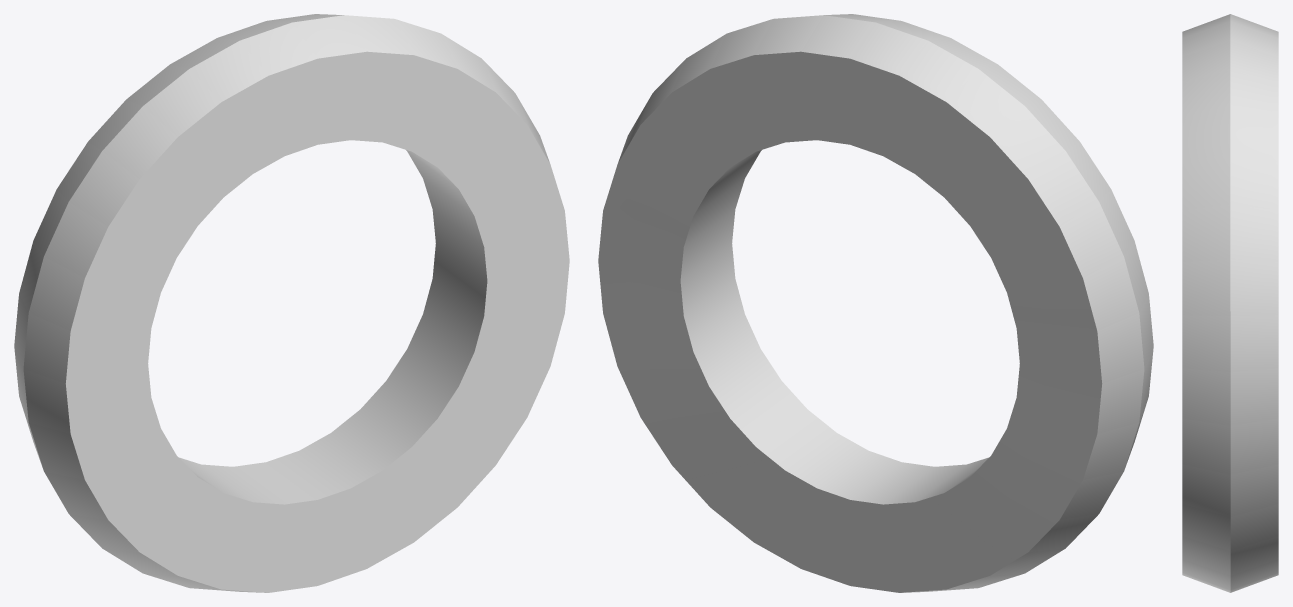
The model's file is 79213eef-d64d-4c2a-919a-8cad1820cbba.glb.
The picture shows the model from 3 angles, left to right: view 1: azimuth 30°, elevation 25°; view 2: azimuth 150°, elevation 25°; view 3: azimuth 270°, elevation 25°; orthographic projection. The views are drawn at different scales.
Visible parts, largest first — view 1: radioEmpty; view 2: radioEmpty; view 3: radioEmpty.
Part boxes in pixels (box(x1,y1,x2,y2)): radioEmpty: box(14, 14, 569, 592); radioEmpty: box(598, 14, 1153, 592); radioEmpty: box(1182, 14, 1278, 592).
Size of what is drawn, in the model's own units: 0.1536 by 0.1536 by 0.0256.
1 material, 1 textured.
